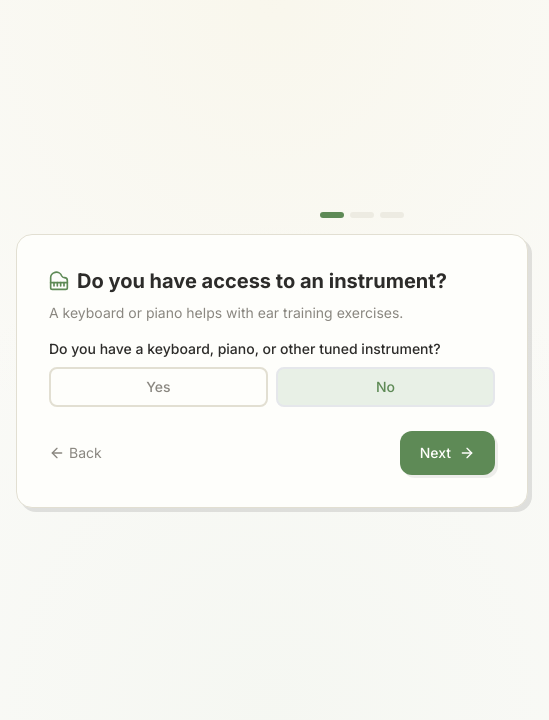
Scenario: EnhancedOnboarding skill assessment navigation › Skip for now goes straight to the learning map
This screenshot has width=549, height=720.
Earlier steps of the test are not shown.
Click the button "Next": x=447, y=453 x1=400 y1=431 x2=495 y2=475
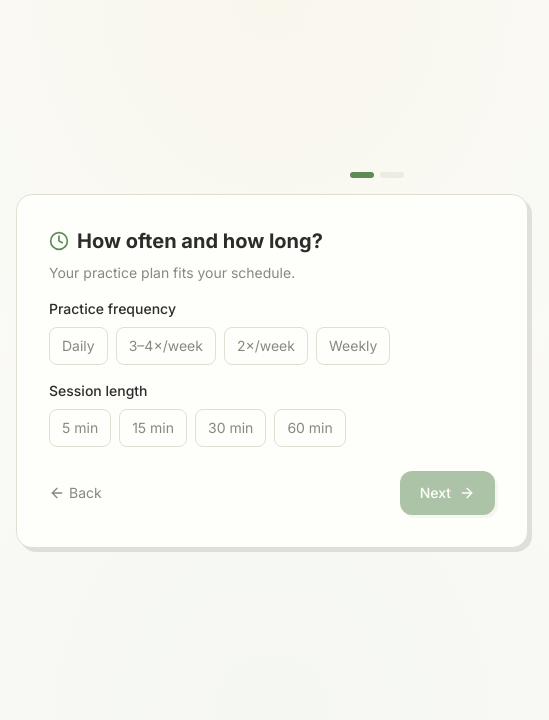
Click the button "Daily": x=78, y=346 x1=49 y1=327 x2=108 y2=365
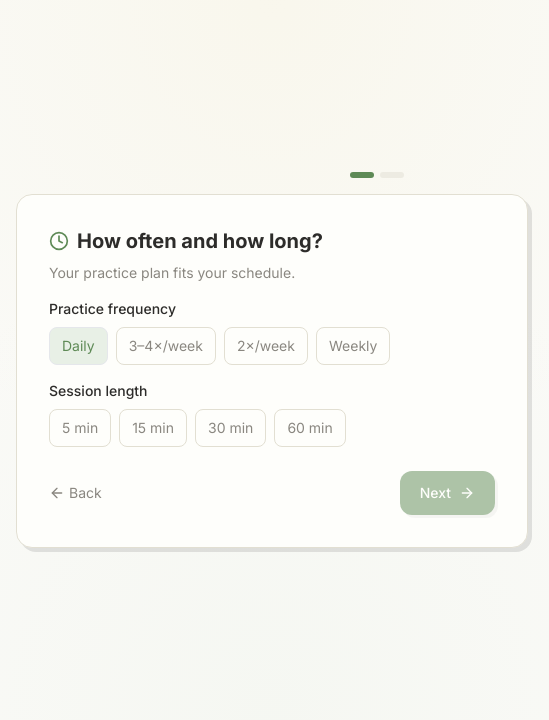
Click the button "15 min": x=153, y=428 x1=119 y1=409 x2=187 y2=447
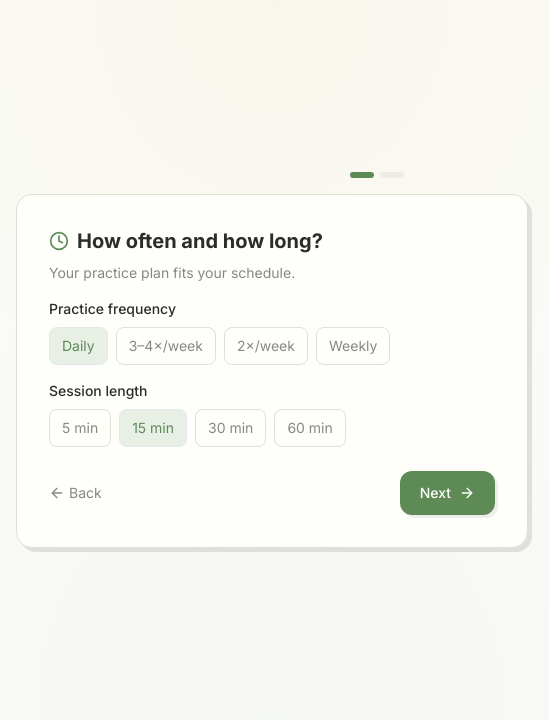
Click the button "Next": x=447, y=493 x1=400 y1=471 x2=495 y2=515
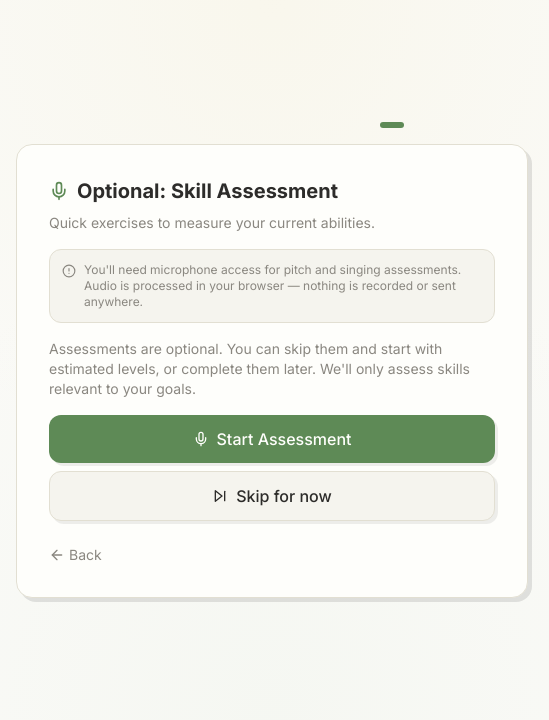
Check: the heading "Optional: Skill Assessment" is shown, box x1=77 y1=177 x2=338 y2=205
Click the button "Skip for now": x=272, y=496 x1=49 y1=471 x2=495 y2=521
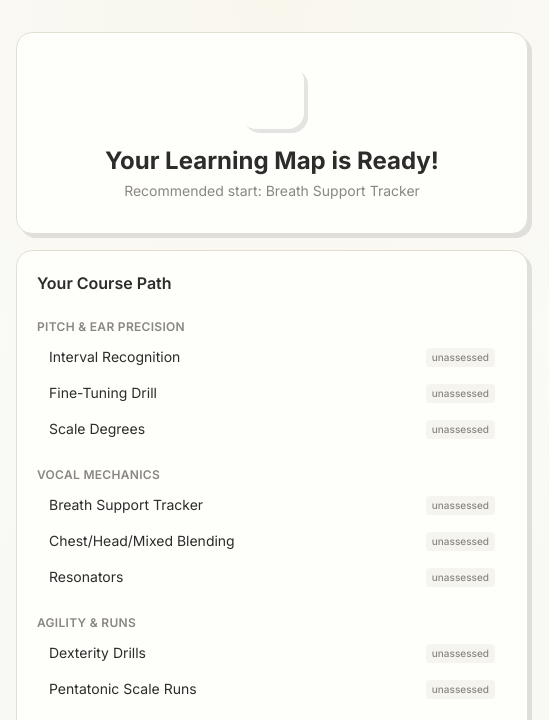
Check: the heading "Your Learning Map is Ready!" is shown, box x1=105 y1=145 x2=439 y2=177
